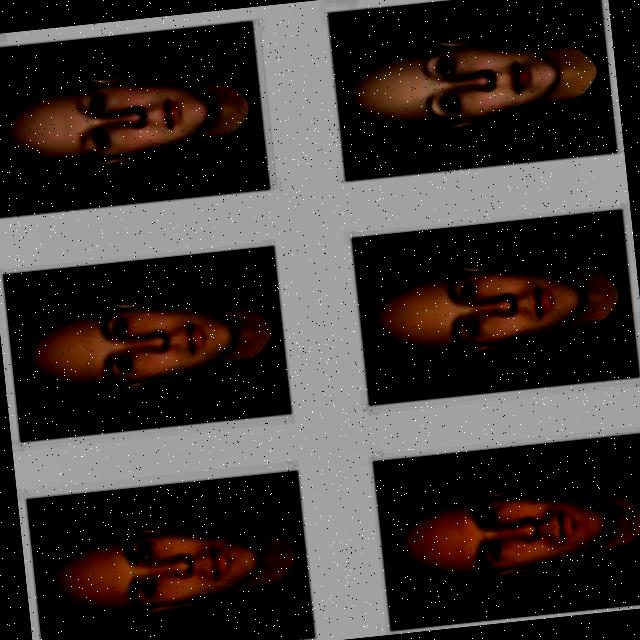neutral: (15, 258, 287, 428), (358, 227, 640, 384), (327, 10, 621, 159), (20, 499, 306, 640), (0, 41, 257, 195), (388, 456, 640, 599)
